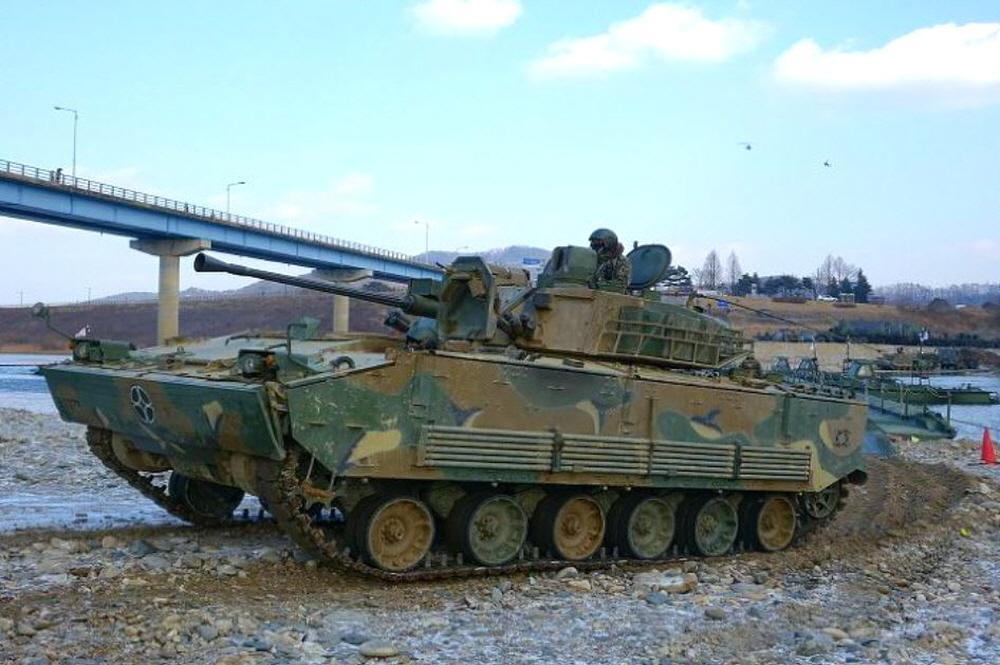MIL_IFV: (36, 239, 868, 583)
